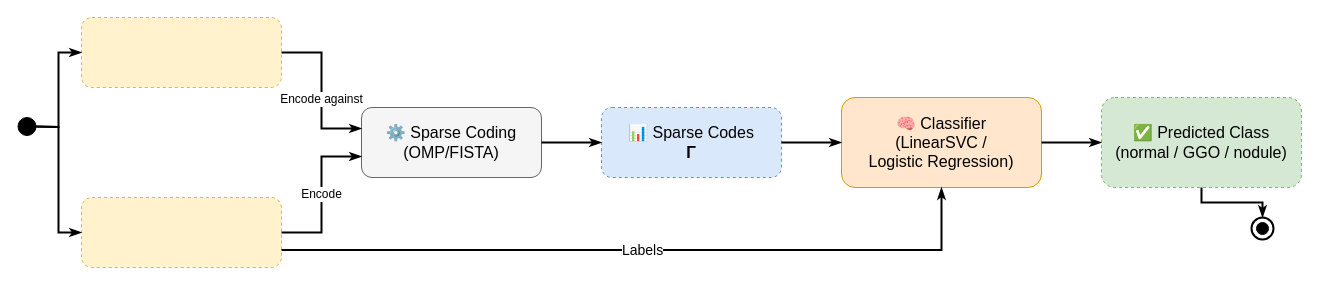
The diagram is 1319 pixels wide and 285 high, and some of its shapes have lost their labels. Here are the shapes that lost their labels. From the top down, the centre of each, then its label:
point 181,52: 📁 Load Dictionary D
point 181,232: 📁 Load Patch Matrix X
